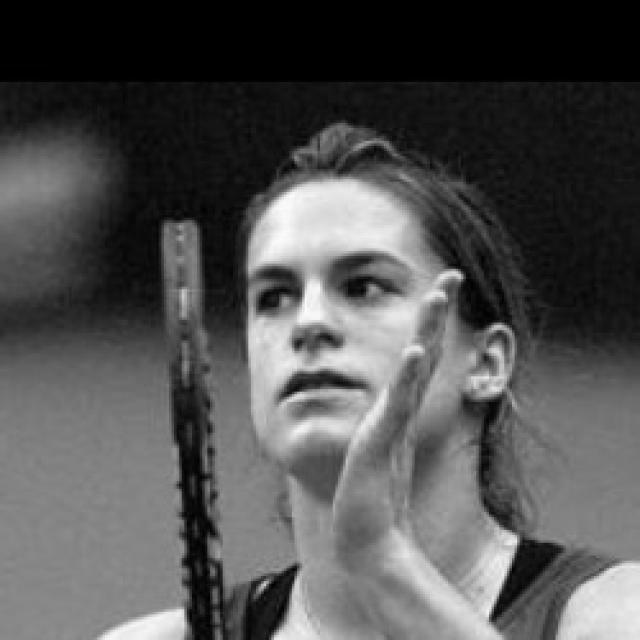real: (252, 136, 488, 510), (248, 259, 396, 326)
